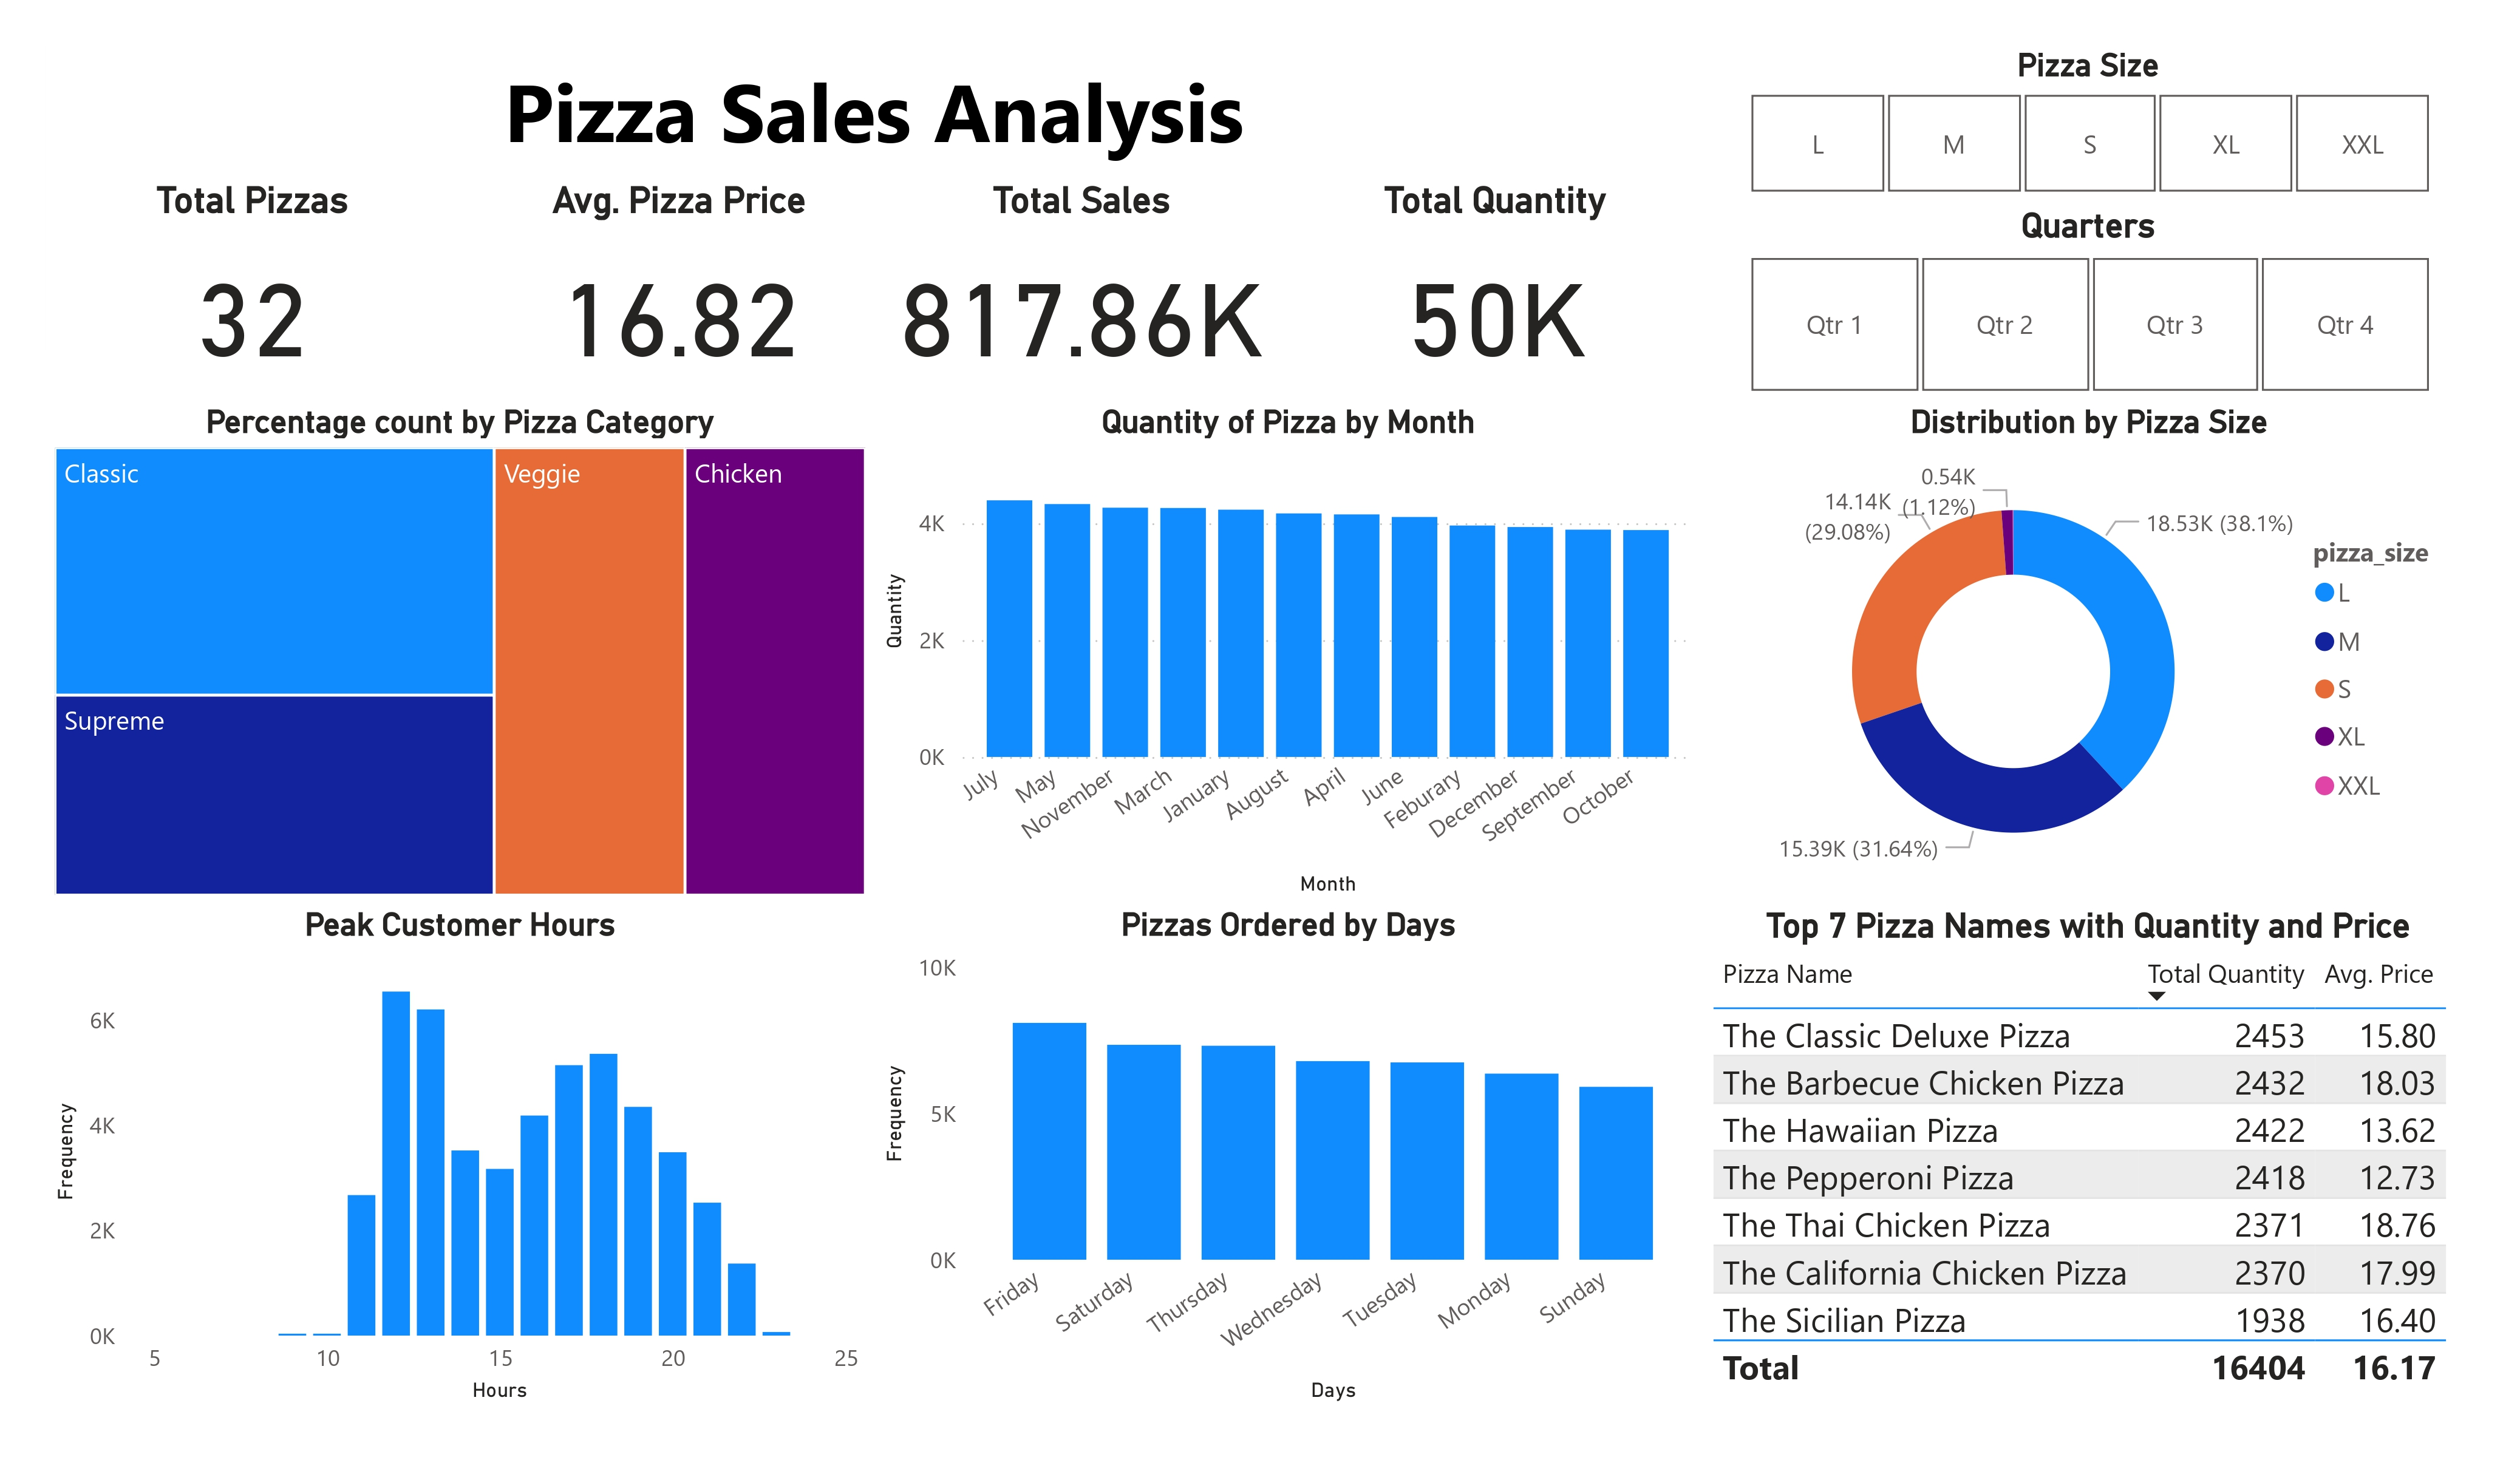

The page's visual inventory and layout, read from the dashboard file:
{"tool":"powerbi","page":{"name":"Page 1","canvas":[1280,720],"ordinal":0},"visuals":[{"type":"clusteredColumnChart","title":"Peak Customer Hours","fields":{"Category":["unified_mentor_pizza_sales pizza_sales.hour"],"Y":["CountNonNull(unified_mentor_pizza_sales pizza_sales.hour)"]},"box":[0,453.3,436.7,266.7],"z":0},{"type":"columnChart","title":"Pizzas Ordered by Days","fields":{"Category":["unified_mentor_pizza_sales pizza_sales.day_of_week"],"Y":["CountNonNull(unified_mentor_pizza_sales pizza_sales.order_time)"]},"box":[436.7,453.3,436.7,266.7],"z":1000},{"type":"slicer","title":"Pizza Size","fields":{"Values":["unified_mentor_pizza_sales pizza_sales.pizza_size"]},"box":[872.9,0,407.1,84.3],"z":2000},{"type":"treemap","title":"Percentage count by Pizza Category","fields":{"Group":["unified_mentor_pizza_sales pizza_sales.pizza_category"],"Values":["CountNonNull(unified_mentor_pizza_sales pizza_sales.pizza_category)"]},"box":[0,188.3,436.7,265],"z":3000},{"type":"textbox","box":[0,0,873.3,70],"z":4000},{"type":"tableEx","title":"Top 7 Pizza Names with Quantity and Price ","fields":{"Values":["unified_mentor_pizza_sales pizza_sales.pizza_name","unified_mentor_pizza_sales pizza_sales.quantity","Avg(unified_mentor_pizza_sales pizza_sales.total_price)"]},"box":[873.3,453.3,406.7,266.7],"z":5000},{"type":"clusteredColumnChart","title":"Quantity of Pizza by Month","fields":{"Category":["unified_mentor_pizza_sales pizza_sales.month"],"Y":["Sum(unified_mentor_pizza_sales pizza_sales.quantity)"]},"box":[436.7,188.3,436.7,265],"z":6000},{"type":"card","title":"Total Pizzas","fields":{"Values":["Count(unified_mentor_pizza_sales pizza_sales.pizza_name)"]},"box":[0,70,218.3,118.3],"z":7000},{"type":"donutChart","title":"Distribution by Pizza Size ","fields":{"Category":["unified_mentor_pizza_sales pizza_sales.pizza_size"],"Y":["CountNonNull(unified_mentor_pizza_sales pizza_sales.pizza_size)"]},"box":[874,188,406,265],"z":8000},{"type":"card","title":"Avg. Pizza Price","fields":{"Values":["Avg(unified_mentor_pizza_sales pizza_sales.total_price)"]},"box":[218.3,70,231.7,118.3],"z":9000},{"type":"card","title":"Total Sales","fields":{"Values":["Sum(unified_mentor_pizza_sales pizza_sales.total_price)"]},"box":[436.7,70,218.3,118.3],"z":10000},{"type":"slicer","title":"Quarters","fields":{"Values":["unified_mentor_pizza_sales pizza_sales.order_date.Variation.Date Hierarchy.Quarter"]},"box":[872.9,84.3,407.1,104.3],"z":11000},{"type":"card","title":"Total Quantity","fields":{"Values":["Sum(unified_mentor_pizza_sales pizza_sales.quantity)"]},"box":[655,70,218.3,118.3],"z":12000}]}

Visuals, with their boxes in screenshot pixels (x1, y1, x2, y2):
"Peak Customer Hours" clusteredColumnChart: x1=46, y1=906, x2=874, y2=1411
"Pizzas Ordered by Days" columnChart: x1=874, y1=906, x2=1703, y2=1411
"Pizza Size" slicer: x1=1702, y1=46, x2=2474, y2=205
"Percentage count by Pizza Category" treemap: x1=46, y1=402, x2=874, y2=906
textbox: x1=46, y1=46, x2=1703, y2=178
"Top 7 Pizza Names with Quantity and Price " tableEx: x1=1703, y1=906, x2=2474, y2=1411
"Quantity of Pizza by Month" clusteredColumnChart: x1=874, y1=402, x2=1703, y2=906
"Total Pizzas" card: x1=46, y1=178, x2=460, y2=402
"Distribution by Pizza Size " donutChart: x1=1704, y1=402, x2=2474, y2=905
"Avg. Pizza Price" card: x1=460, y1=178, x2=899, y2=402
"Total Sales" card: x1=874, y1=178, x2=1289, y2=402
"Quarters" slicer: x1=1702, y1=205, x2=2474, y2=403
"Total Quantity" card: x1=1289, y1=178, x2=1703, y2=402
